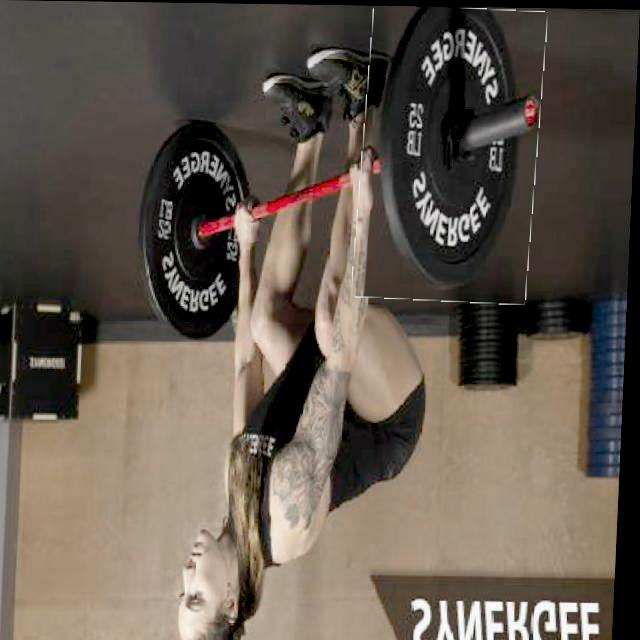barbell: (357, 5, 545, 302)
